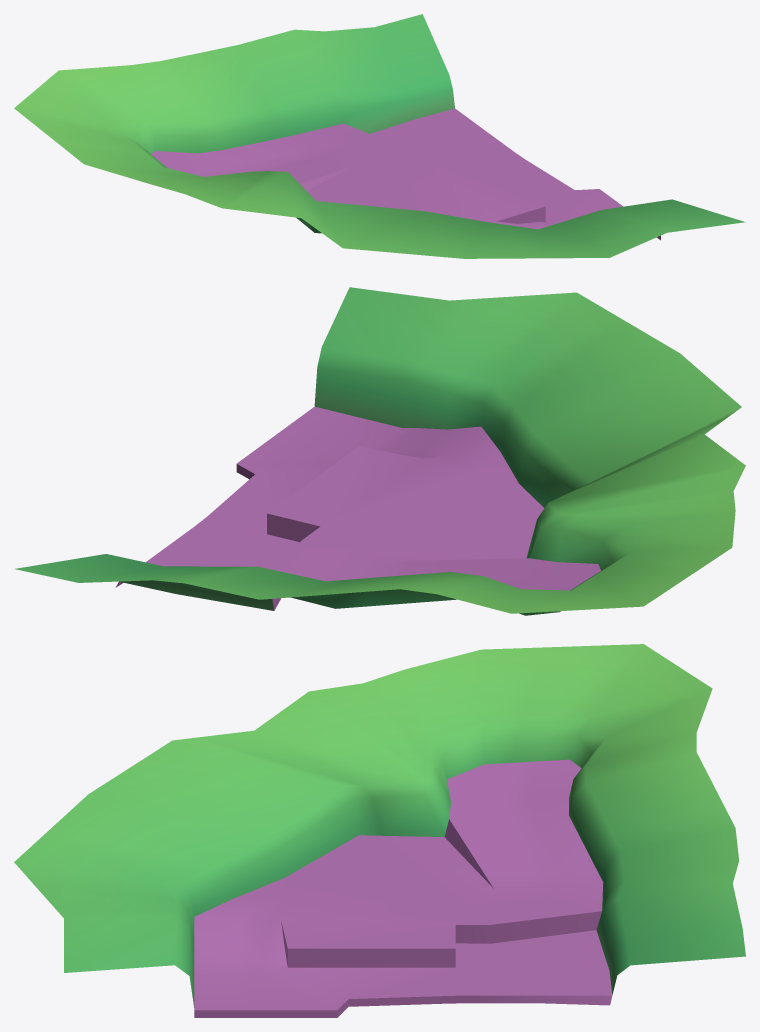
File: Ground.fbx
The picture shows the model from 3 angles, top to bottom: view 1: azimuth 30°, elevation 25°; view 2: azimuth 150°, elevation 25°; view 3: azimuth 270°, elevation 25°; orthographic projection. The views are drawn at different scales.
Visible parts, largest first — view 1: Cube.013; view 2: Cube.013; view 3: Cube.013.
Part boxes in pixels (x1,y1,x2,y2): Cube.013: (14,14,745,258); Cube.013: (15,287,745,615); Cube.013: (14,644,745,1017).
Bounding box in the file's own units: 16972 × 3404 × 19248.
